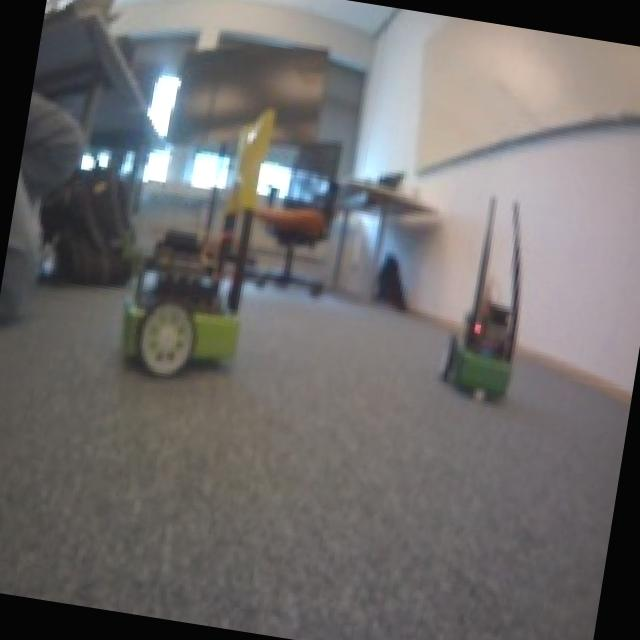robot: (108, 224, 254, 388), (428, 278, 531, 408)
